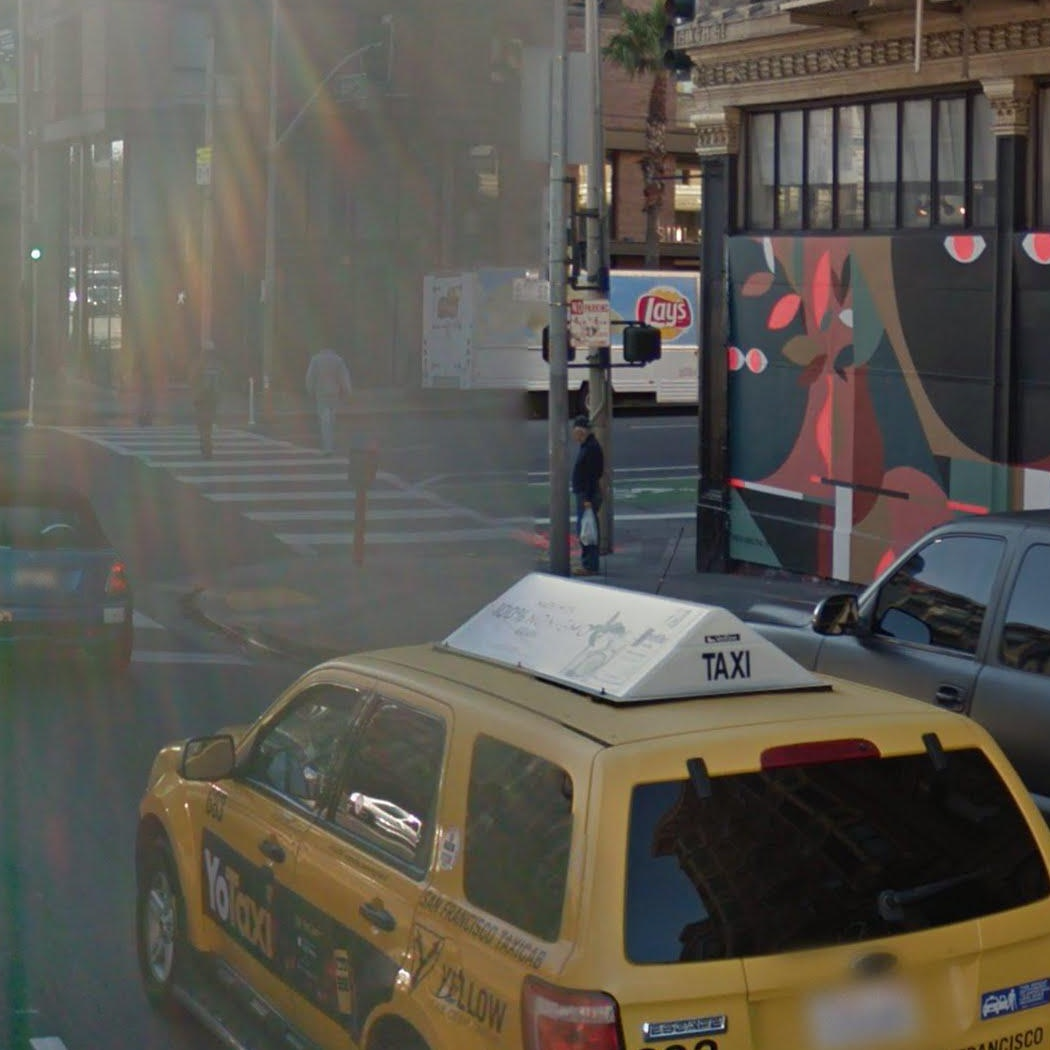No Parking: (569, 298, 612, 350)
